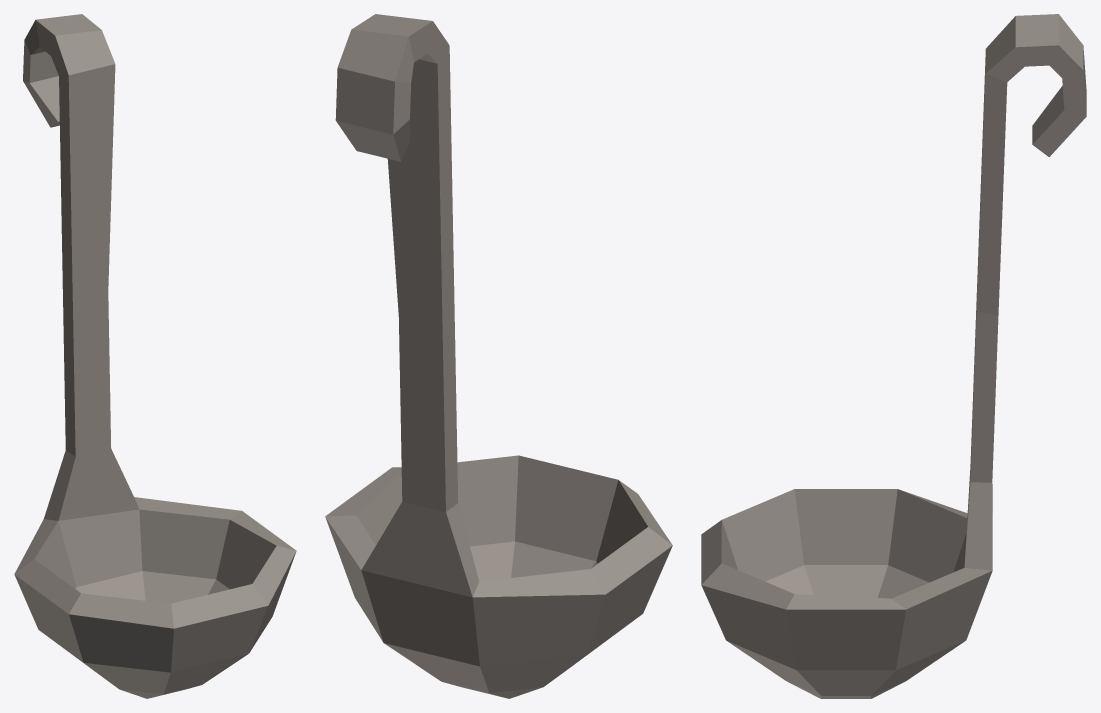
Rendered from SM_Ladle.fbx.
3 renders of one model, left to right at view 1: azimuth 30°, elevation 25°; view 2: azimuth 150°, elevation 25°; view 3: azimuth 270°, elevation 25°, orthographic. The views are drawn at different scales.
Visible parts, largest first — view 1: SM_Ladle; view 2: SM_Ladle; view 3: SM_Ladle.
Boxes of the visible parts, left/top/right/bottom form: SM_Ladle: left=14, top=14, right=296, bottom=698; SM_Ladle: left=325, top=14, right=672, bottom=698; SM_Ladle: left=701, top=14, right=1086, bottom=698.
Size of the model in its own units: 14.77 by 37.22 by 19.64.
